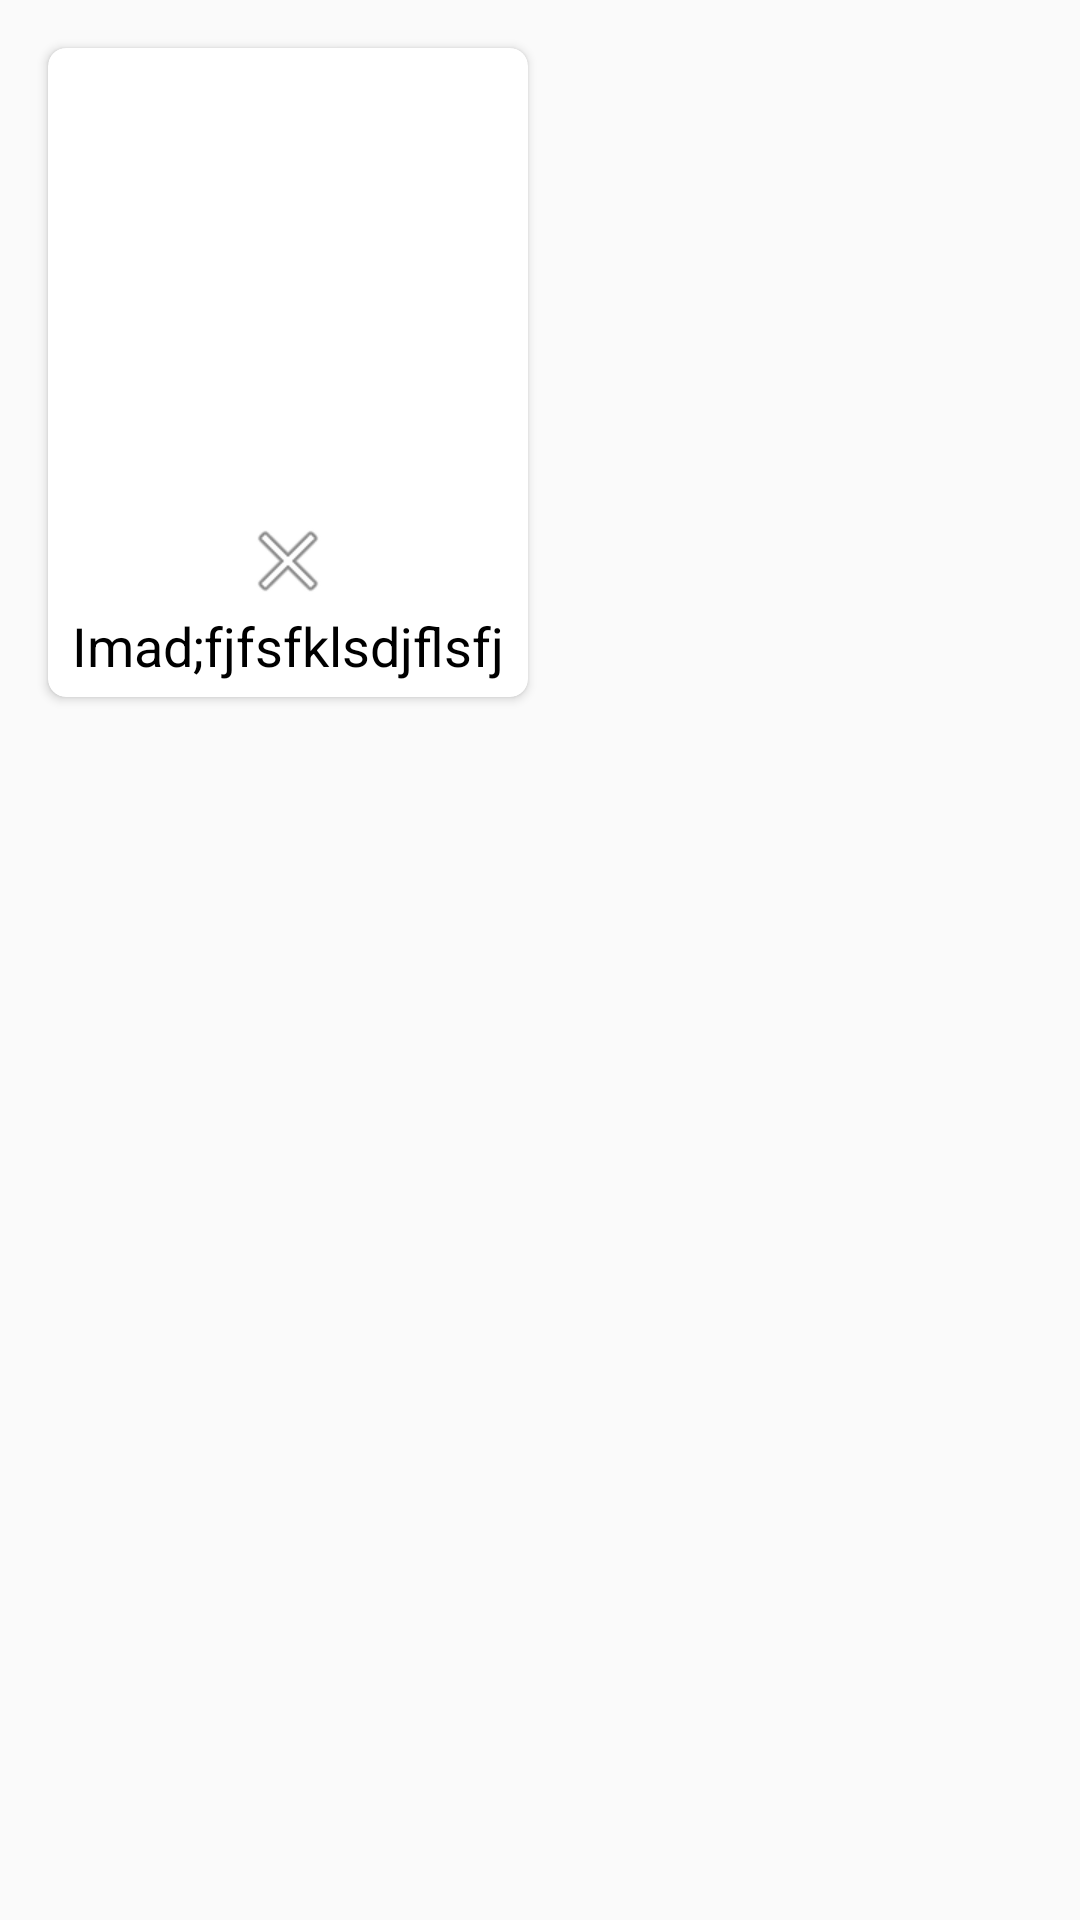

Icon bounding boxes for this 1080w x 1920h phone screenshot, format bbox=[x1, y1, x2, y2]:
close clear cancel: bbox=[258, 531, 318, 591]
